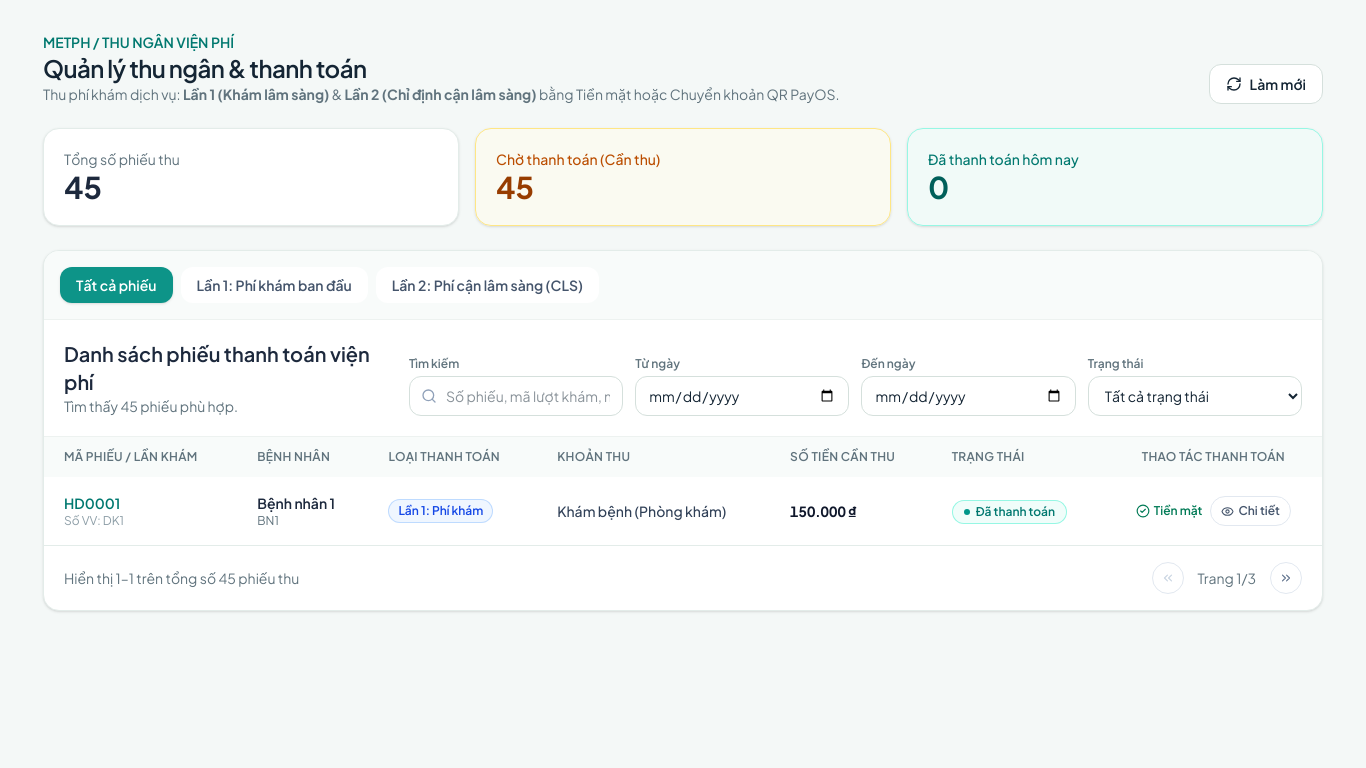
Scenario: PaymentManagementPage (UC-70) › pages through the receipts and keeps the filters on every page
Expected: the text "Trang 1/3" is shown, [1198,569,1256,587]
Expected: the text "Hiển thị 1–1 trên tổng số 45 phiếu thu" is shown, [64,568,299,588]
Click the button named "Trang sau" at (1286, 578), box [1270,562,1302,594]
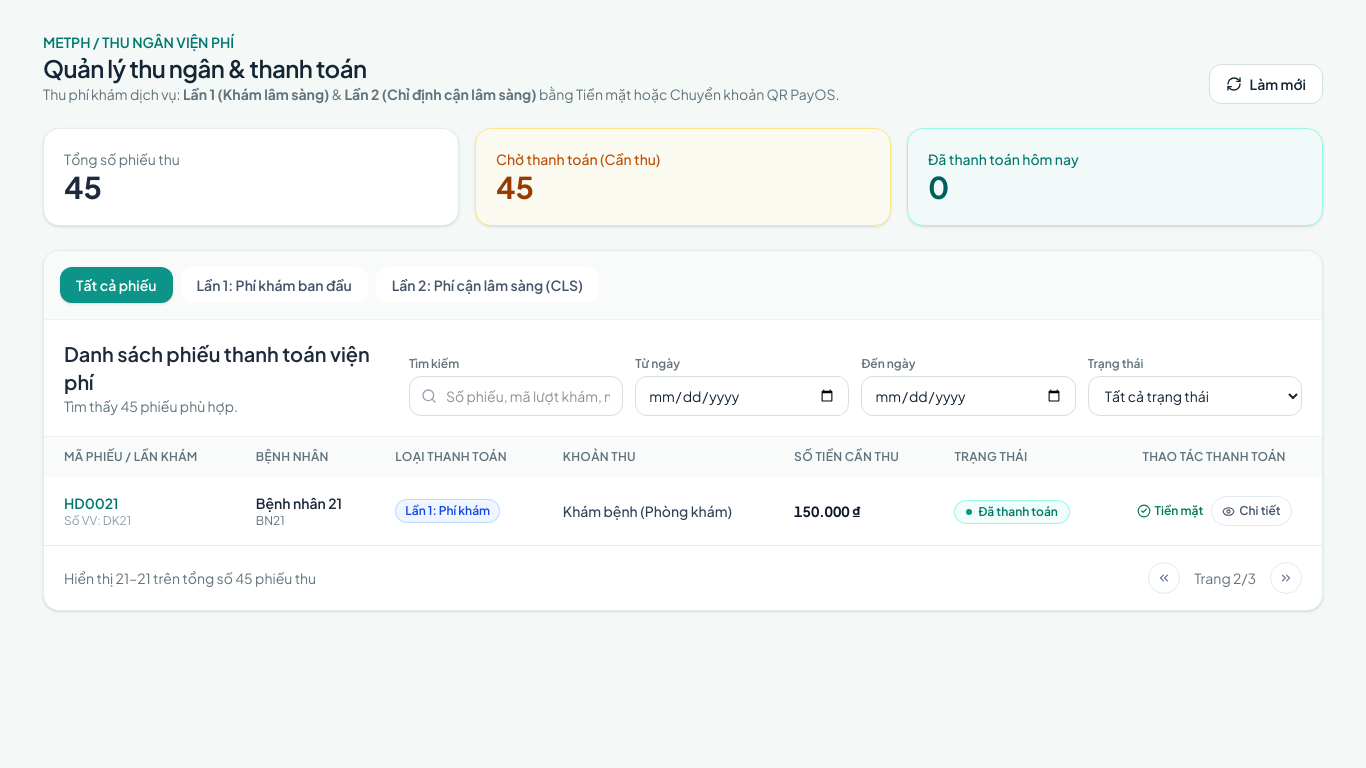
Now the text "Trang 2/3" is shown, box [1194,569,1256,587]
Now the button named "Trang trước" is enabled, box [1148,562,1180,594]
